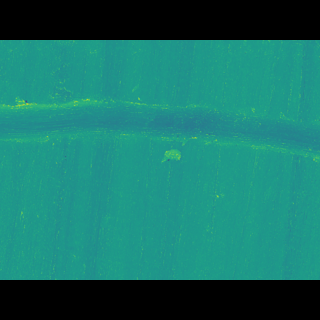Loch: (0, 112, 320, 163), (155, 150, 185, 163)
